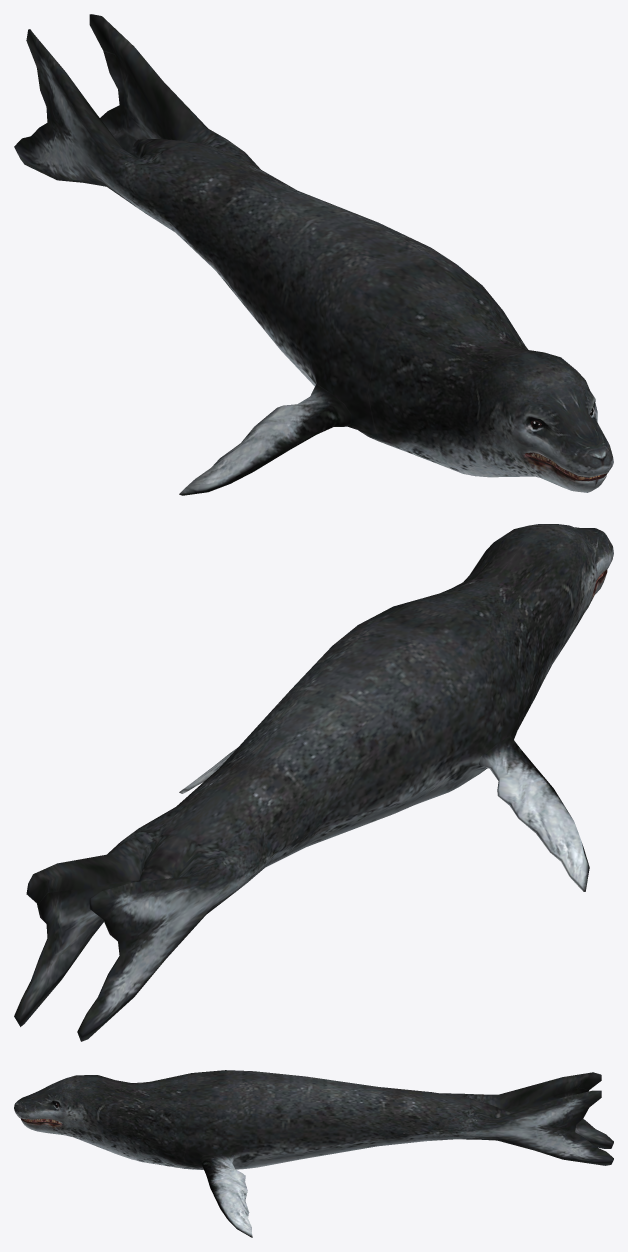
Rendered from leopard-seal.glb.
3 renders of one model, top to bottom at view 1: azimuth 30°, elevation 25°; view 2: azimuth 150°, elevation 25°; view 3: azimuth 270°, elevation 25°, orthographic. The views are drawn at different scales.
Visible parts, largest first — view 1: Object_6; view 2: Object_6; view 3: Object_6.
Part boxes in pixels (x1,y1,x2,y2): Object_6: [14, 14, 613, 495]; Object_6: [14, 524, 613, 1041]; Object_6: [14, 1070, 613, 1237].
Bounding box in the file's own units: 3.06 × 1.43 × 7.22.
1 material, 1 textured.
